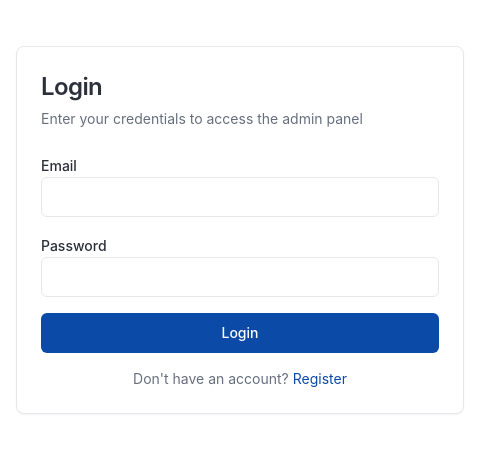
Test: Login Page › should display error message on login failure
Type "test@example.com" into the field labelled "Email" at (240, 197), box [41, 177, 439, 217]
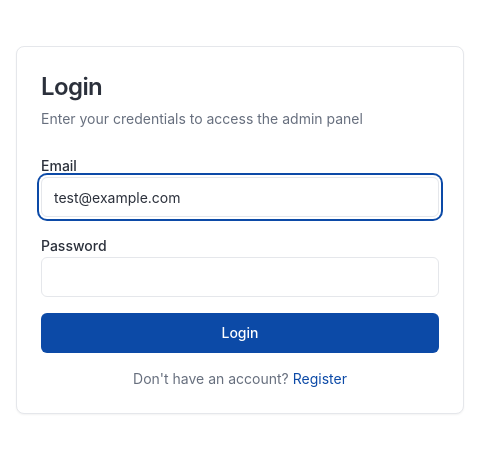
Type "wrong-password" into the password field labelled "Password" at (240, 277), box [41, 257, 439, 297]
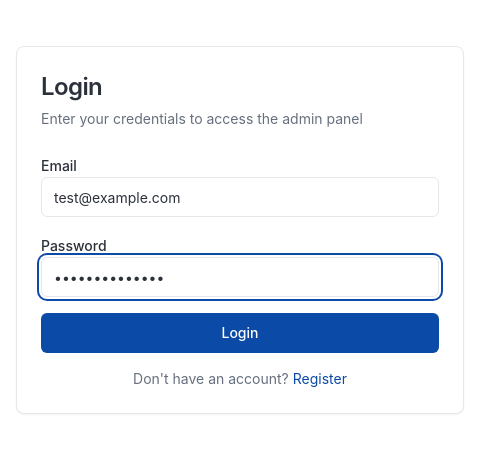
Click the button "Login" at (240, 333), box [41, 313, 439, 353]
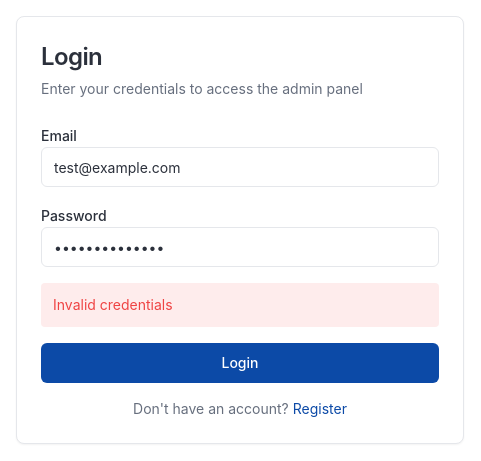
Now the text "Invalid credentials" is shown, box [41, 283, 439, 327]
